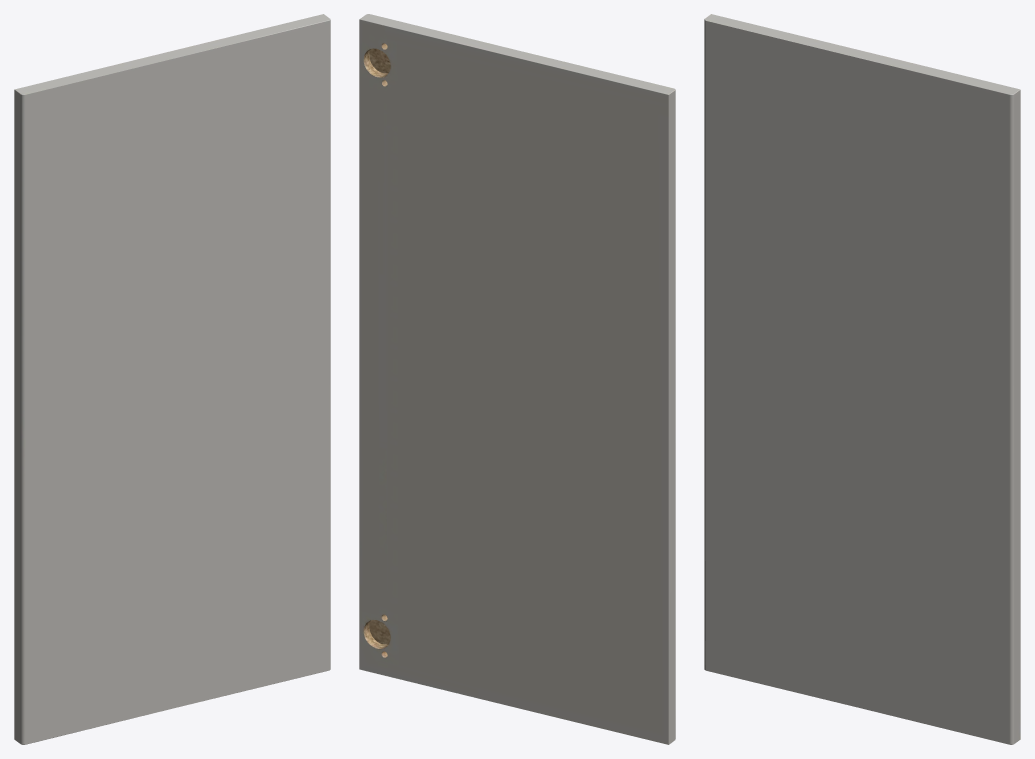
Rendered from Ringhult60327137-scene-512.glb.
3 renders of one model, left to right at view 1: azimuth 30°, elevation 25°; view 2: azimuth 150°, elevation 25°; view 3: azimuth 330°, elevation 25°, orthographic.
Parts seen in each view (by area): view 1: model; view 2: model; view 3: model.
Boxes of the visible parts, bbox=[...] form: model: bbox=[14, 14, 330, 744]; model: bbox=[359, 14, 675, 744]; model: bbox=[704, 14, 1020, 744].
Size of the model in its own units: 0.397 by 0.797 by 0.018.
1 material, 1 textured.
